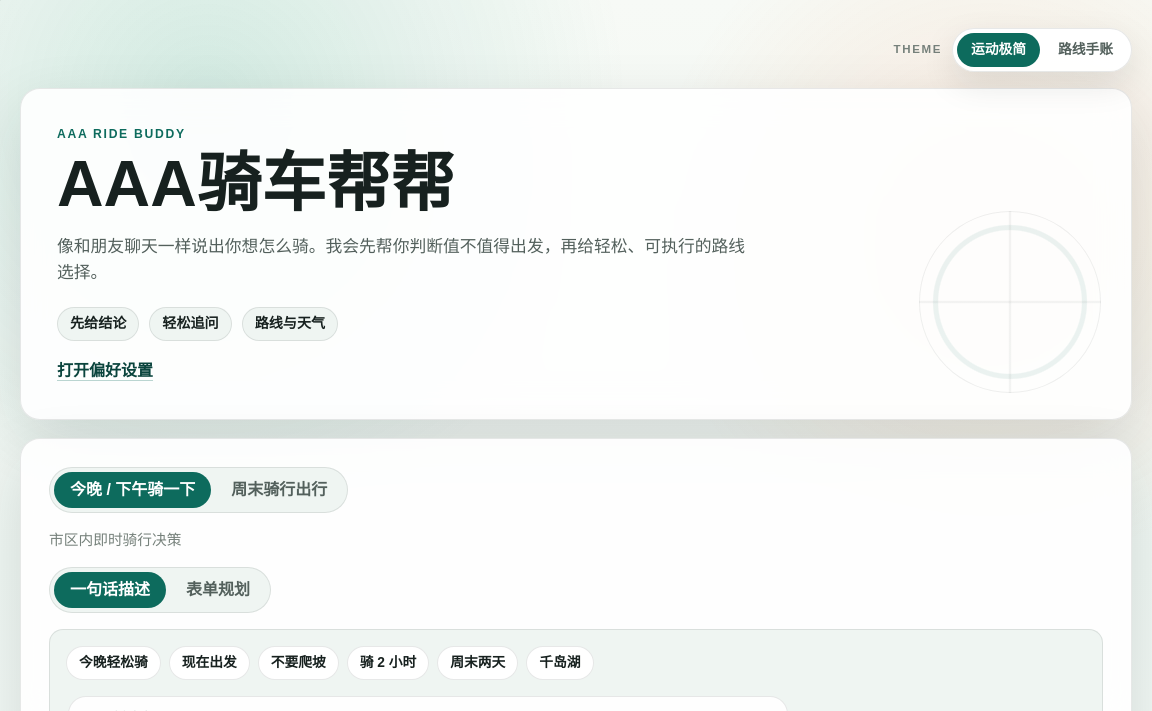
it: switches between natural language and structured planner inputs
This screenshot has width=1152, height=711.
Click the button "表单规划" at coordinates (218, 590), box x1=170 y1=572 x2=266 y2=608
(page scrolled)
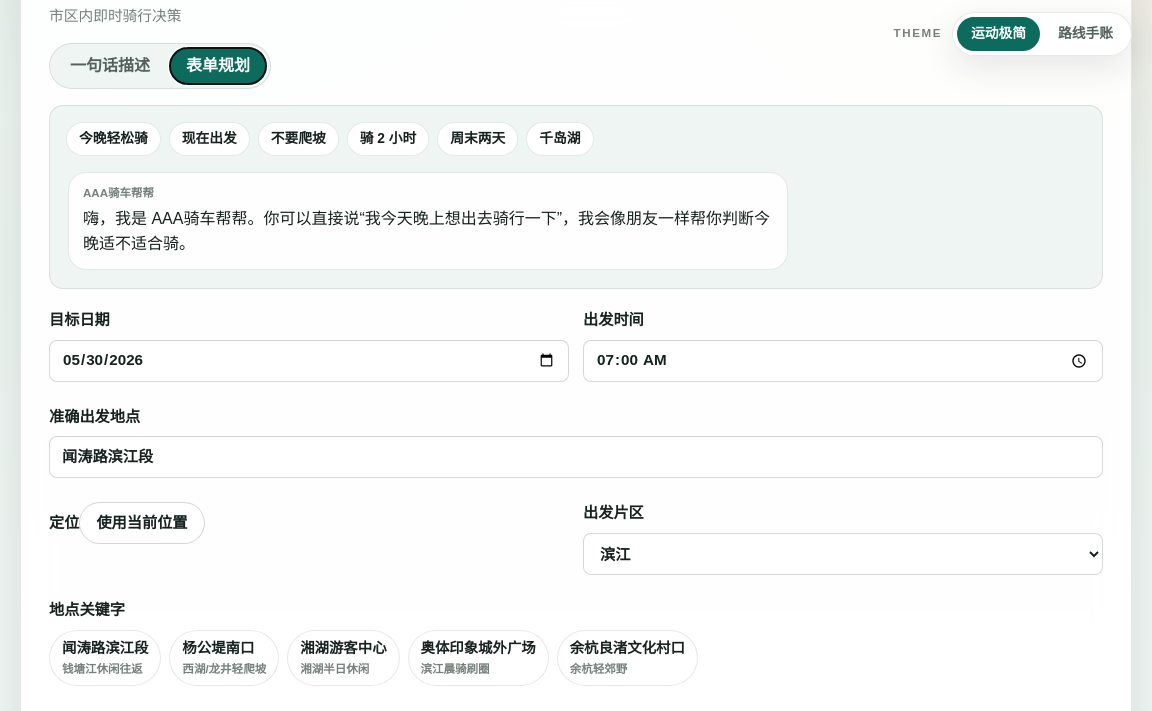
Expected: the dropdown labelled "出发片区" is shown, x1=583 y1=533 x2=1103 y2=575
Expected: the field labelled "准确出发地点" is shown, x1=49 y1=436 x2=1103 y2=478
Expected: the date field labelled "目标日期" is shown, x1=49 y1=340 x2=569 y2=382
